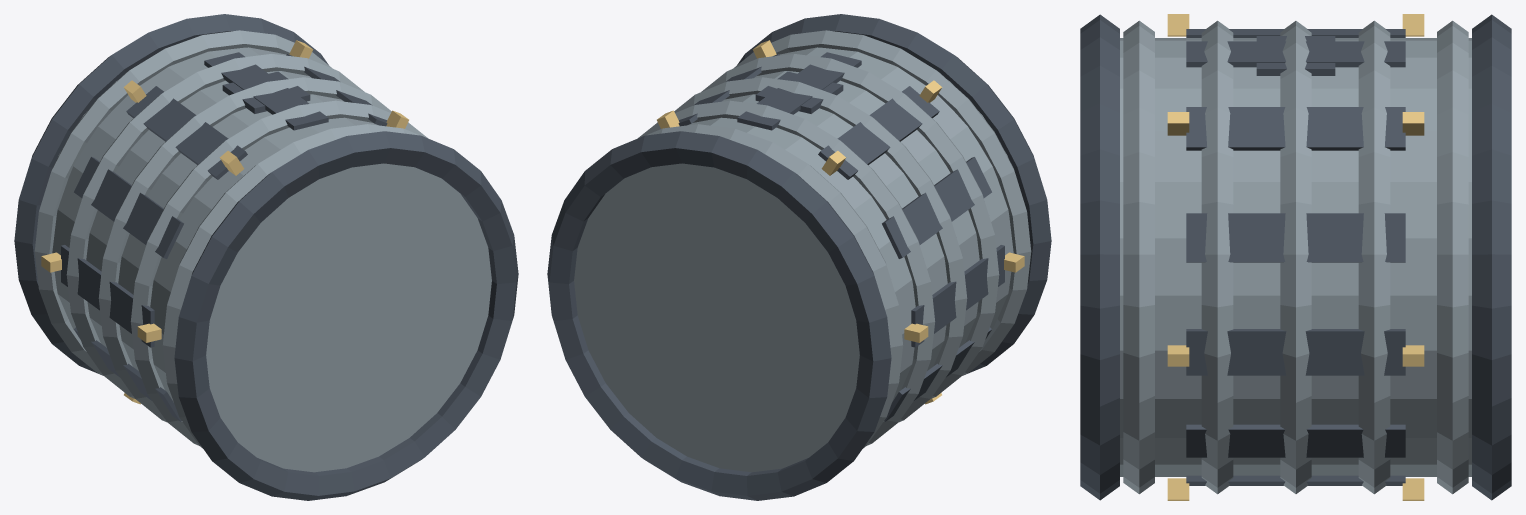
The model's file is sub_hull_mk3.glb.
3 views of the same model, side by side, from view 1: azimuth 30°, elevation 25°; view 2: azimuth 150°, elevation 25°; view 3: azimuth 270°, elevation 25° (orthographic). The views are drawn at different scales.
Parts seen in each view (by area): view 1: sub_hull_mk3_hull, sub_hull_mk3_dark, sub_hull_mk3_brass; view 2: sub_hull_mk3_hull, sub_hull_mk3_dark, sub_hull_mk3_brass; view 3: sub_hull_mk3_hull, sub_hull_mk3_dark, sub_hull_mk3_brass.
Part boxes in pixels (x1,y1,x2,y2): sub_hull_mk3_hull: (34, 30, 491, 472); sub_hull_mk3_dark: (14, 14, 518, 500); sub_hull_mk3_brass: (41, 40, 408, 404); sub_hull_mk3_hull: (574, 30, 1031, 472); sub_hull_mk3_dark: (547, 14, 1051, 500); sub_hull_mk3_brass: (657, 40, 1024, 404); sub_hull_mk3_hull: (1120, 20, 1471, 494); sub_hull_mk3_dark: (1080, 14, 1511, 500); sub_hull_mk3_brass: (1167, 14, 1424, 500).
Size of the model in its own units: 4.98 by 4.97 by 4.4.
